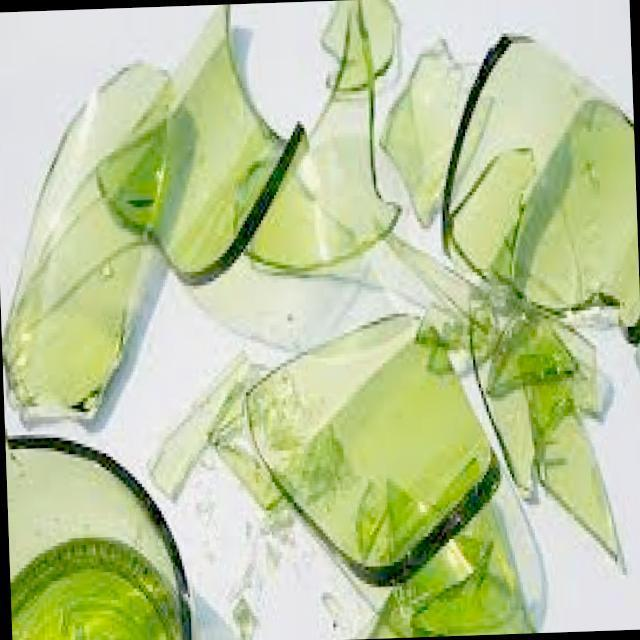Dry: (97, 8, 467, 300), (448, 31, 640, 564), (204, 312, 500, 578), (0, 58, 183, 423), (6, 428, 203, 640), (334, 560, 538, 640)
